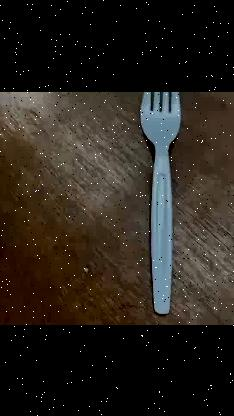Others: (140, 92, 182, 314)
